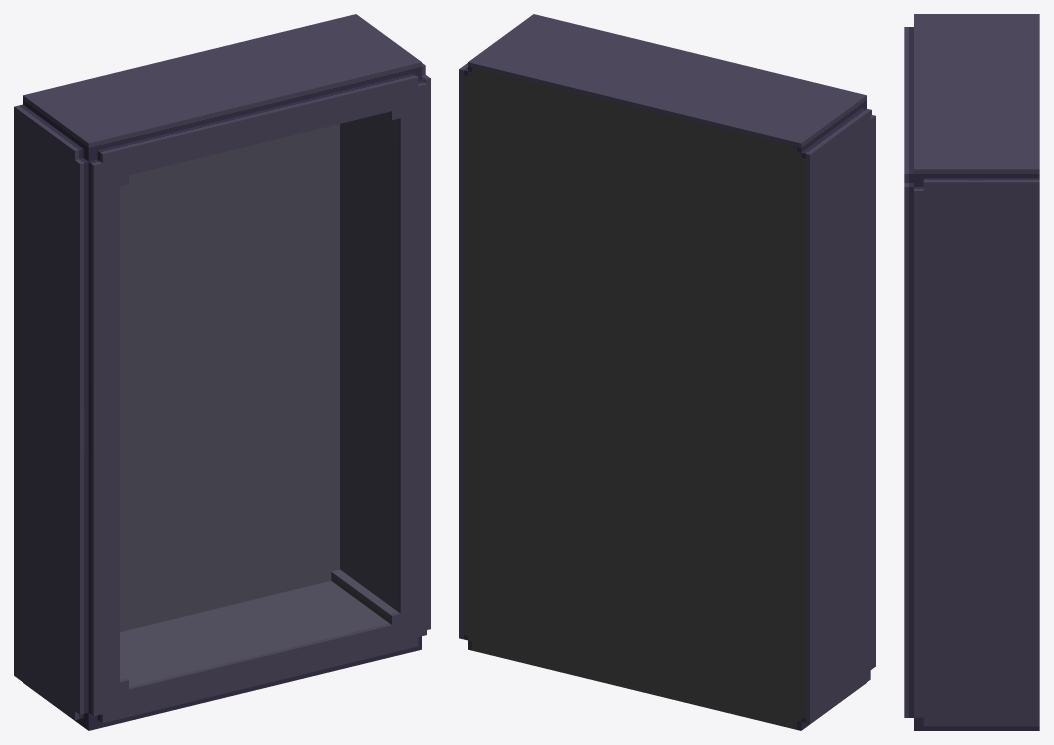
The model's file is phone_box.glb.
The picture shows the model from 3 angles, left to right: view 1: azimuth 30°, elevation 25°; view 2: azimuth 150°, elevation 25°; view 3: azimuth 270°, elevation 25°; orthographic projection. The views are drawn at different scales.
Parts seen in each view (by area): view 1: phone_box_10; view 2: phone_box_10; view 3: phone_box_10.
Part boxes in pixels (x1,y1,x2,y2): phone_box_10: (14,14,430,730); phone_box_10: (459,14,875,730); phone_box_10: (904,14,1039,730).
Bounding box in the file's own units: 8 × 12.8 × 2.8.
Materials: 1 (1 with a texture image).
